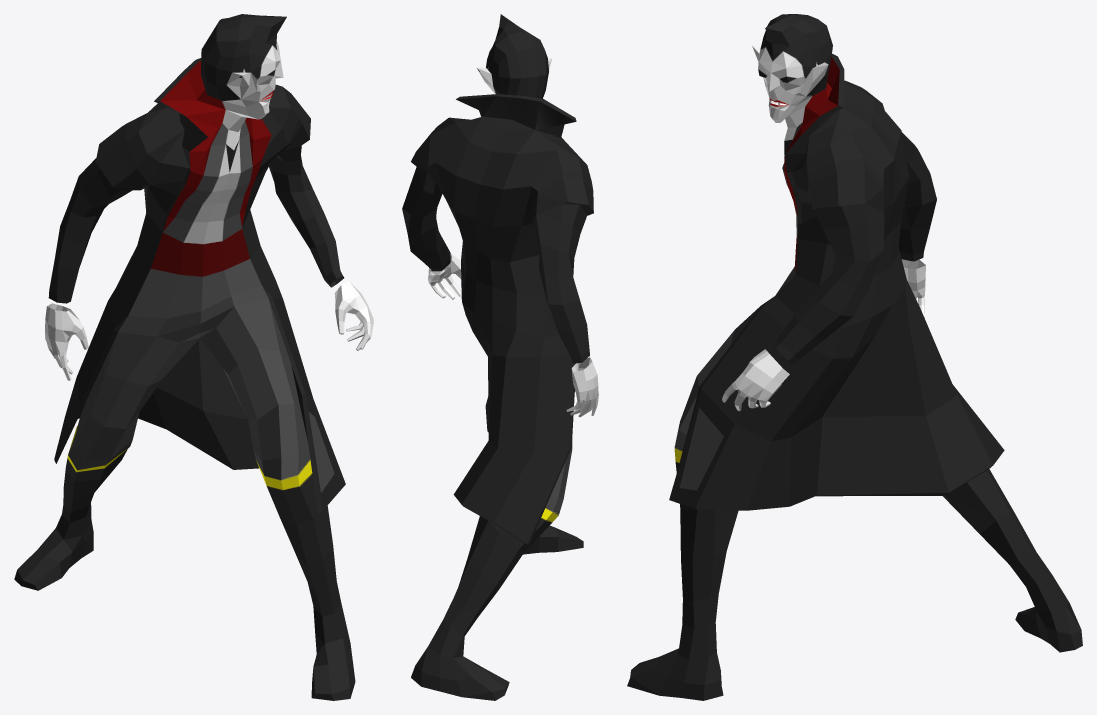
File: VampireIdle(23).obj
The picture shows the model from 3 angles, left to right: view 1: azimuth 30°, elevation 25°; view 2: azimuth 150°, elevation 25°; view 3: azimuth 270°, elevation 25°; orthographic projection. The views are drawn at different scales.
Parts seen in each view (by area): view 1: Plane002; view 2: Plane002; view 3: Plane002.
Part boxes in pixels (x1,y1,x2,y2): Plane002: (14,14,373,700); Plane002: (402,14,598,700); Plane002: (627,14,1082,700).
Bounding box in the file's own units: 127 × 306 × 192.
